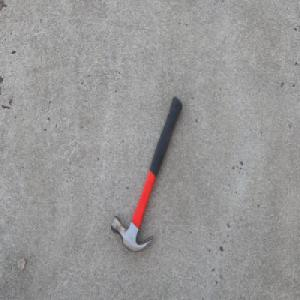Hammer: (110, 94, 184, 255)
